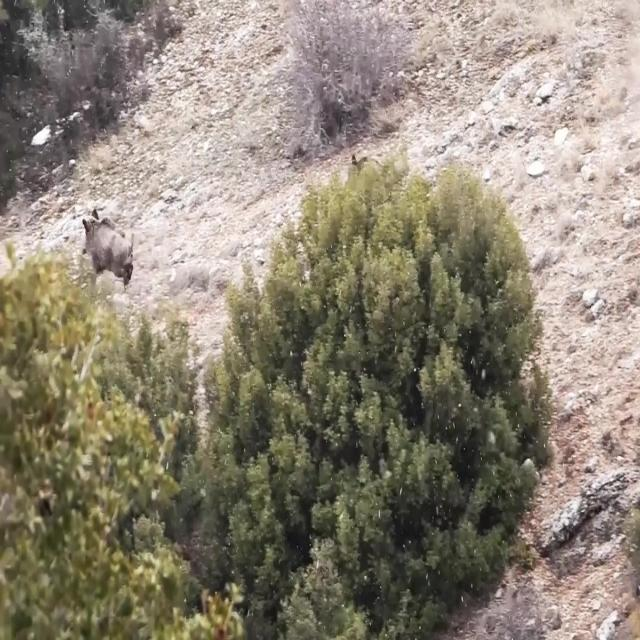pig: (66, 203, 154, 306)
